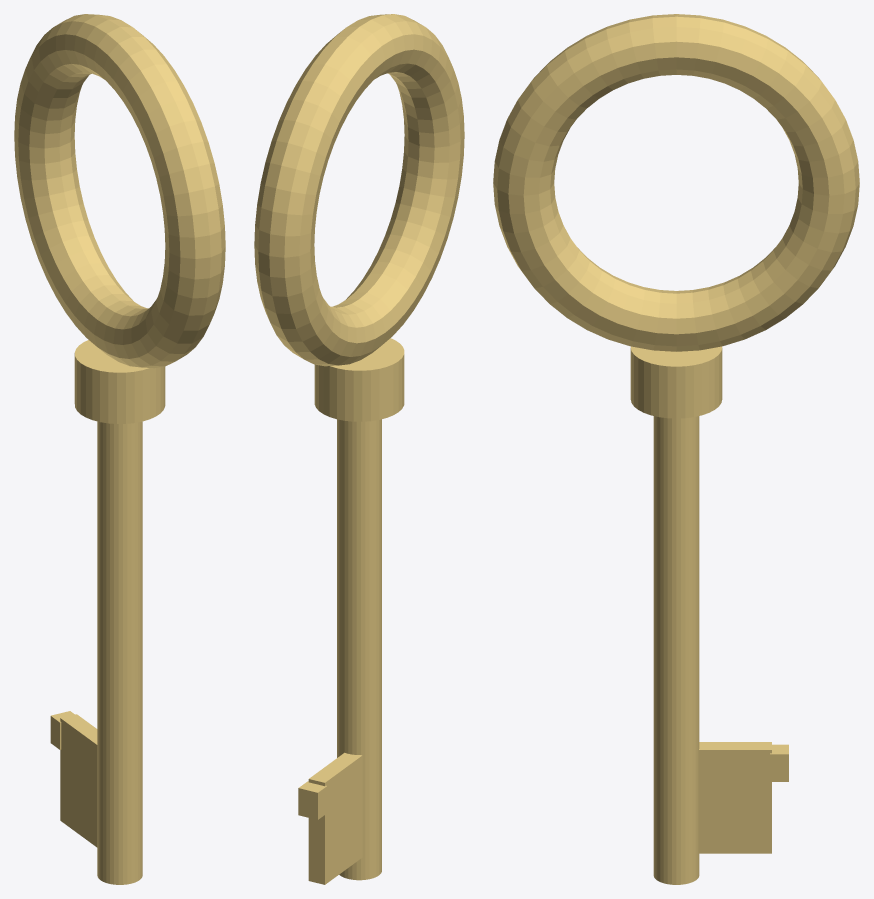
The model's file is Key1.fbx.
3 renders of one model, left to right at view 1: azimuth 30°, elevation 25°; view 2: azimuth 150°, elevation 25°; view 3: azimuth 270°, elevation 25°, orthographic.
Visible parts, largest first — view 1: Key1_Head, Key1_Shaft, Key1_Collar, Key1_Bit, Key1_Notch; view 2: Key1_Head, Key1_Shaft, Key1_Collar, Key1_Bit, Key1_Notch; view 3: Key1_Head, Key1_Shaft, Key1_Bit, Key1_Collar.
Boxes of the visible parts, x1=… form: Key1_Head: x1=14, y1=14, x2=225, y2=368; Key1_Shaft: x1=97, y1=421, x2=142, y2=884; Key1_Collar: x1=74, y1=340, x2=165, y2=423; Key1_Bit: x1=60, y1=714, x2=97, y2=847; Key1_Notch: x1=50, y1=711, x2=74, y2=749; Key1_Head: x1=254, y1=14, x2=464, y2=366; Key1_Shaft: x1=337, y1=419, x2=381, y2=880; Key1_Collar: x1=314, y1=338, x2=404, y2=421; Key1_Bit: x1=308, y1=752, x2=362, y2=884; Key1_Notch: x1=298, y1=781, x2=327, y2=819; Key1_Head: x1=493, y1=14, x2=859, y2=351; Key1_Shaft: x1=653, y1=416, x2=699, y2=884; Key1_Bit: x1=699, y1=742, x2=771, y2=853; Key1_Collar: x1=630, y1=346, x2=722, y2=418.
Size of the model in its own units: 24 by 248 by 96.
